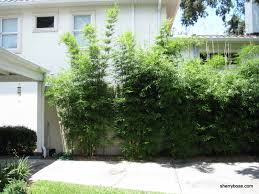bamboo: (116, 17, 258, 158), (51, 57, 188, 126), (60, 1, 117, 154)
